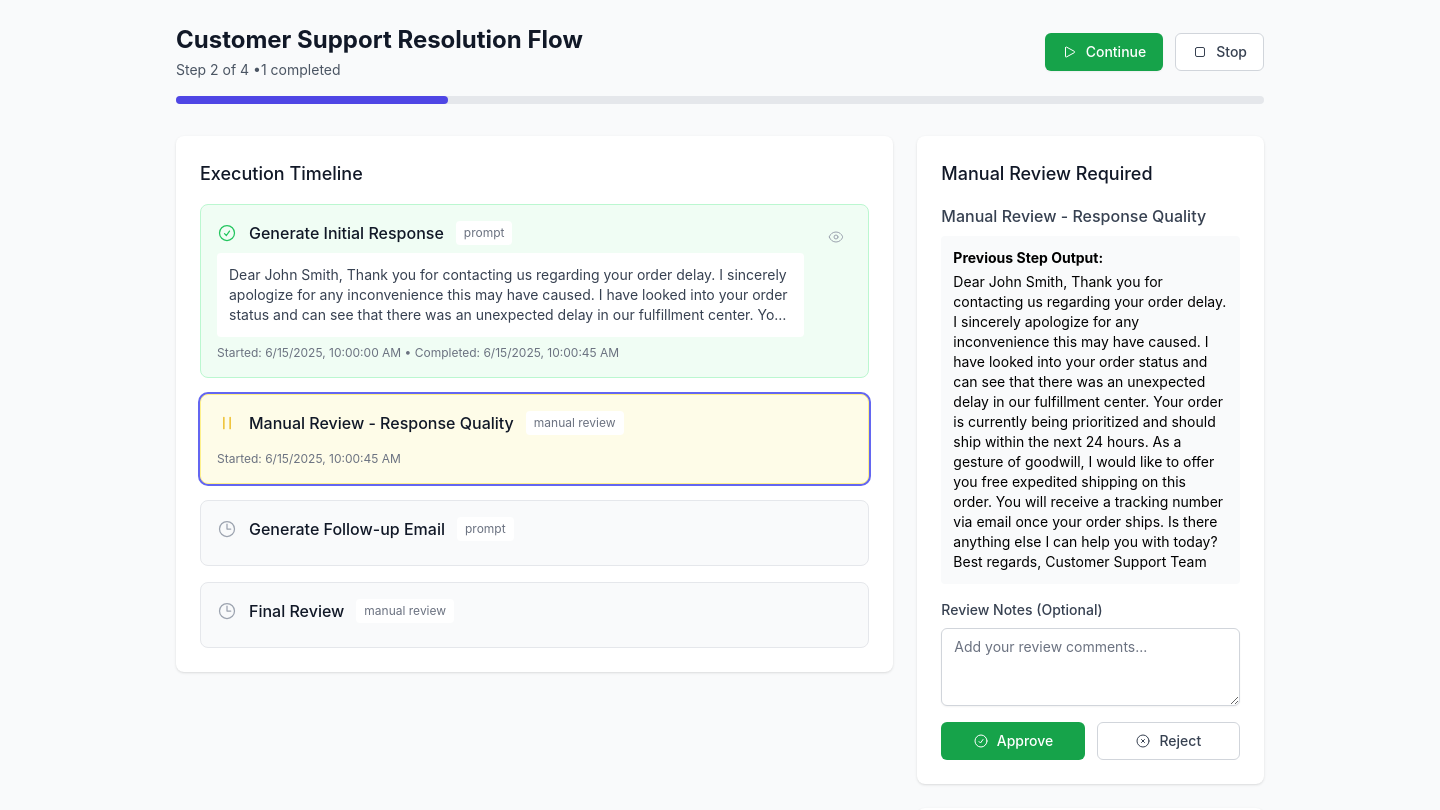
Test: PlaybookRunner › should handle step approval
expect the heading "Manual Review Required" is shown: met, box [941,163,1152,184]
# Add review note
Step 1. Type "Looks good!" into the text box with placeholder "Add your review comments..." → (1091, 667), box [941,628,1240,706]
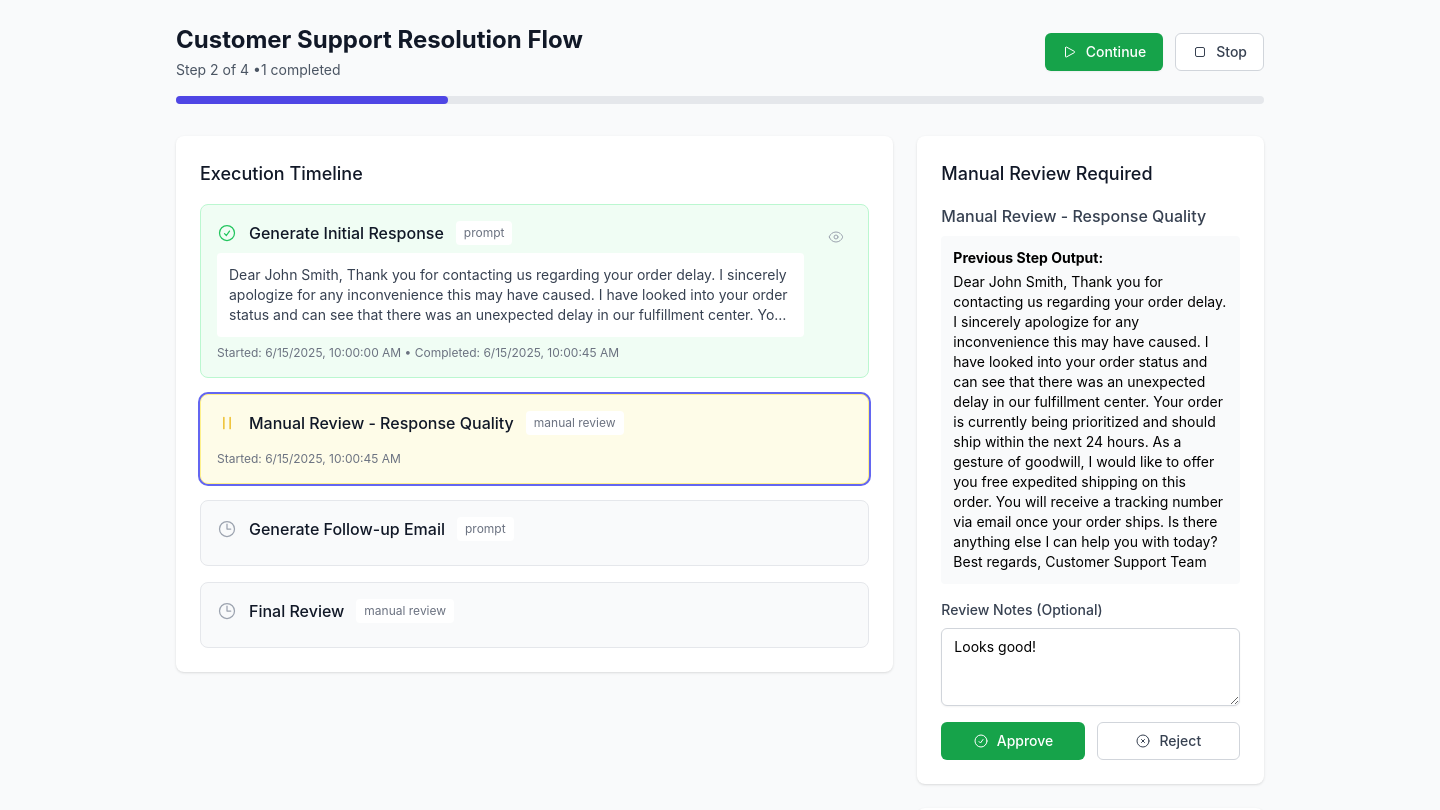
# Click approve button
Step 2. Click the button "Approve" → (1013, 741), box [941,722,1085,760]
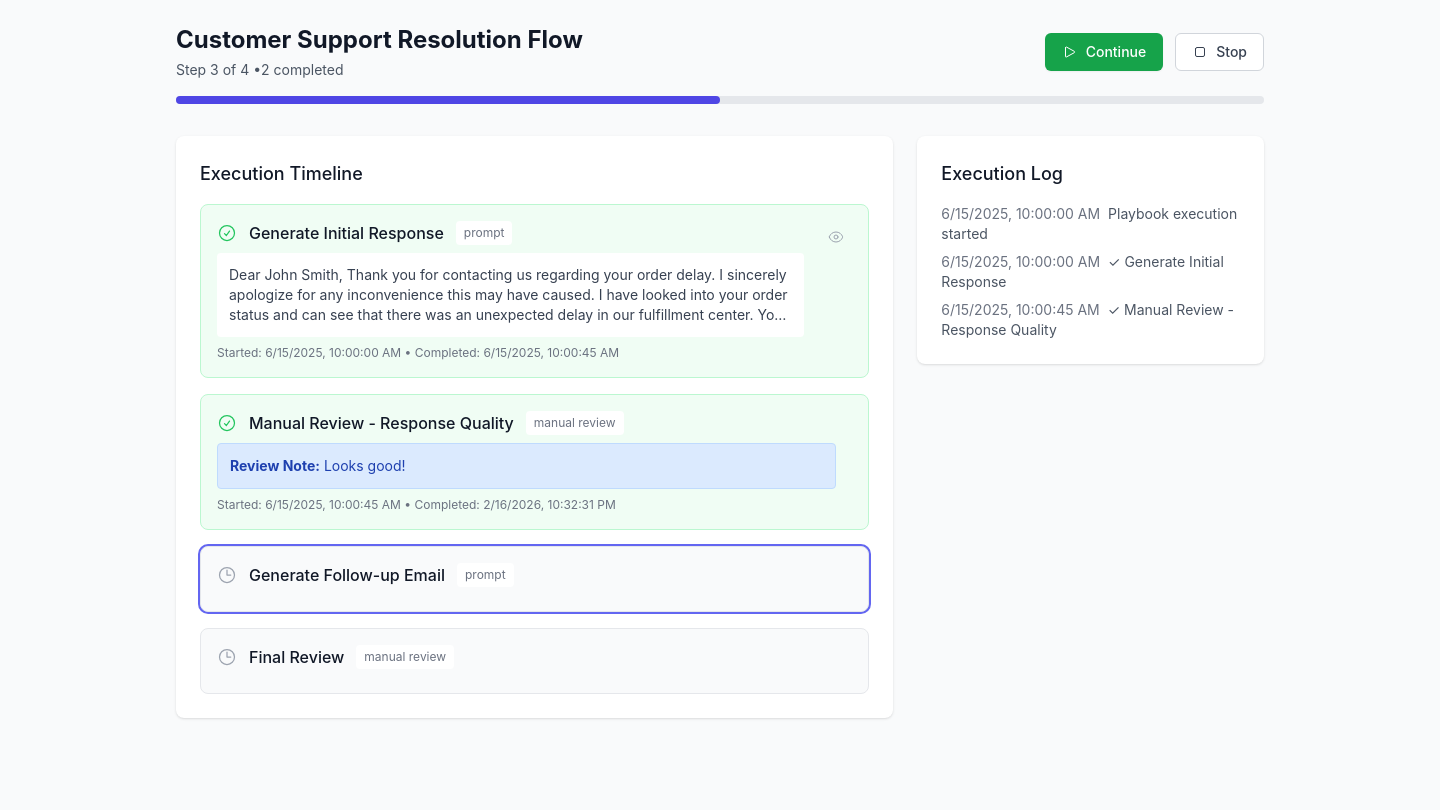
expect the text "Step 3 of 4 •2 completed" is shown: met, box [176,61,344,78]
expect the heading "Manual Review Required" is gone: met
